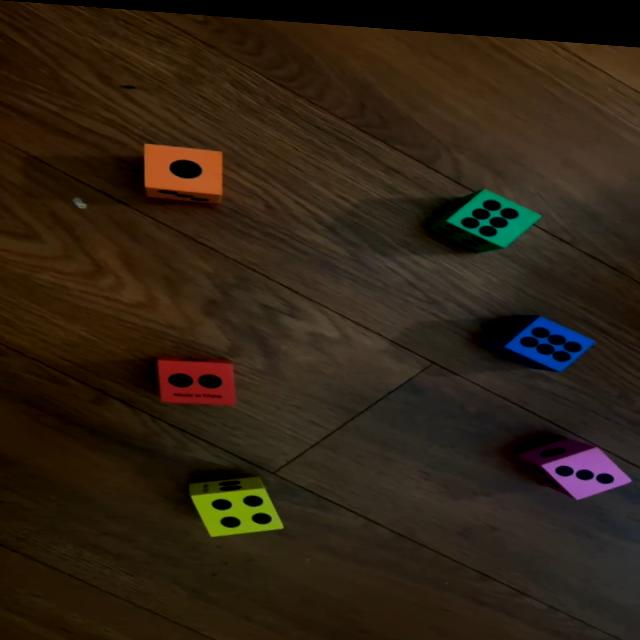cube: (433, 179, 545, 248), (488, 302, 597, 367), (156, 351, 238, 405)
